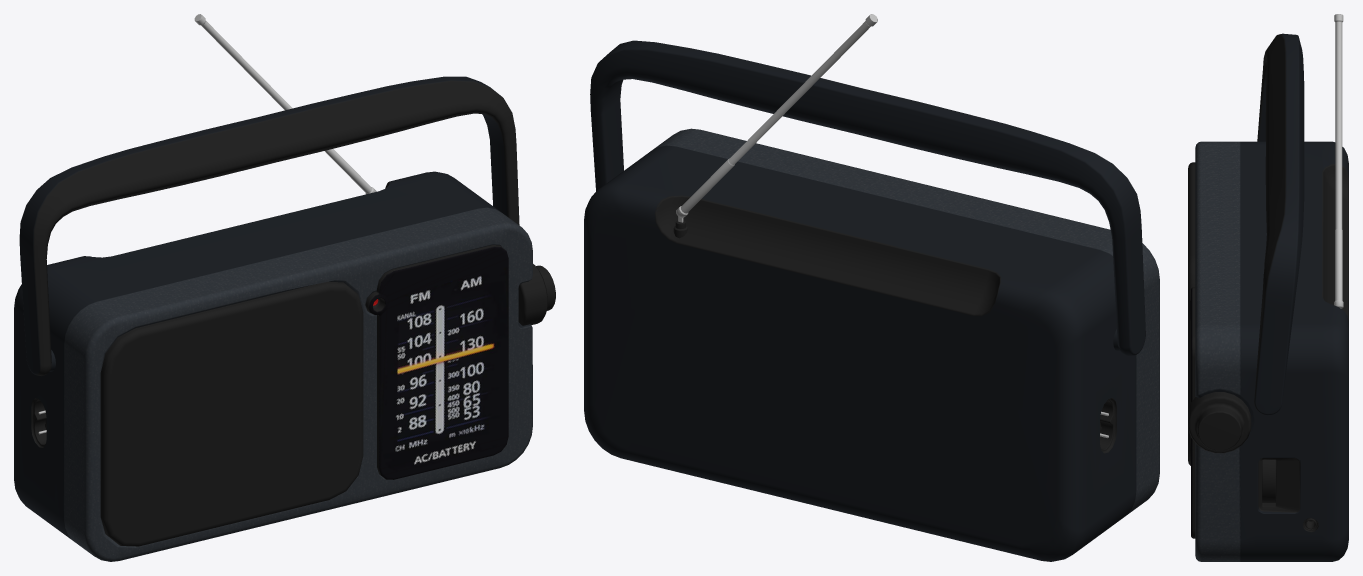
File: GenericProp-Radio.fbx
3 views of the same model, side by side, from view 1: azimuth 30°, elevation 25°; view 2: azimuth 150°, elevation 25°; view 3: azimuth 270°, elevation 25° (orthographic). The views are drawn at different scales.
Parts seen in each view (by area): view 1: Radio; view 2: Radio; view 3: Radio.
Boxes of the visible parts, x1,y1,x2,y2 form: Radio: (14, 14, 555, 561); Radio: (584, 14, 1159, 561); Radio: (1188, 14, 1348, 561).
Bounding box in the file's own units: 37.86 × 33.8 × 11.24.
